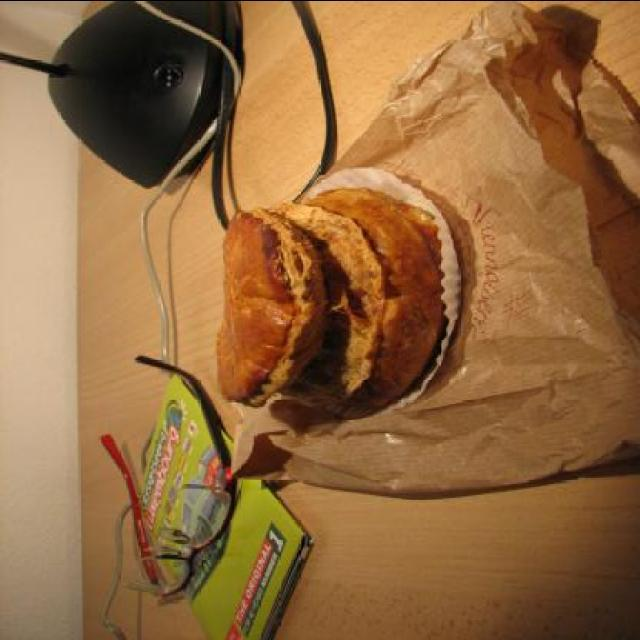Hamburger: (213, 188, 445, 412)
